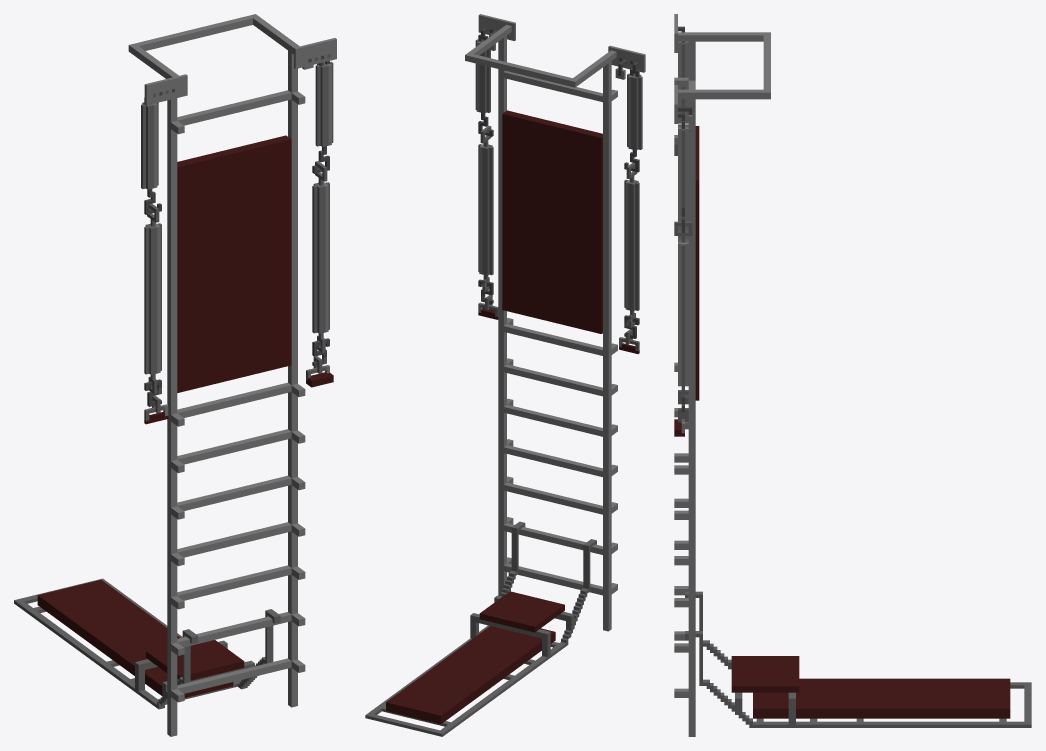
File: shved_stenka.obj
3 renders of one model, left to right at view 1: azimuth 30°, elevation 25°; view 2: azimuth 150°, elevation 25°; view 3: azimuth 270°, elevation 25°, orthographic. The views are drawn at different scales.
Bounding box in the file's own units: 6 × 20 × 10.
Materials: 1 (1 with a texture image).
